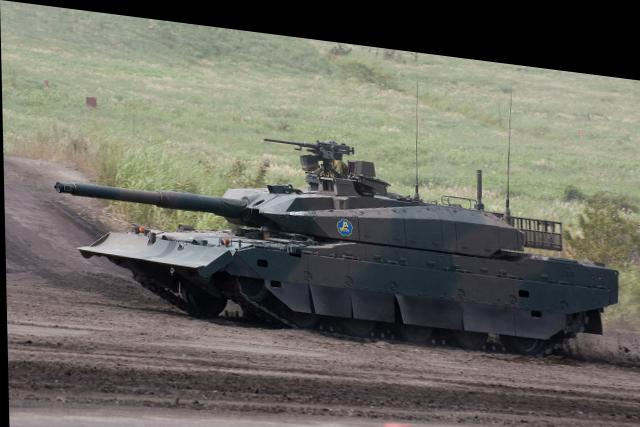tank: (136, 126, 621, 342)
